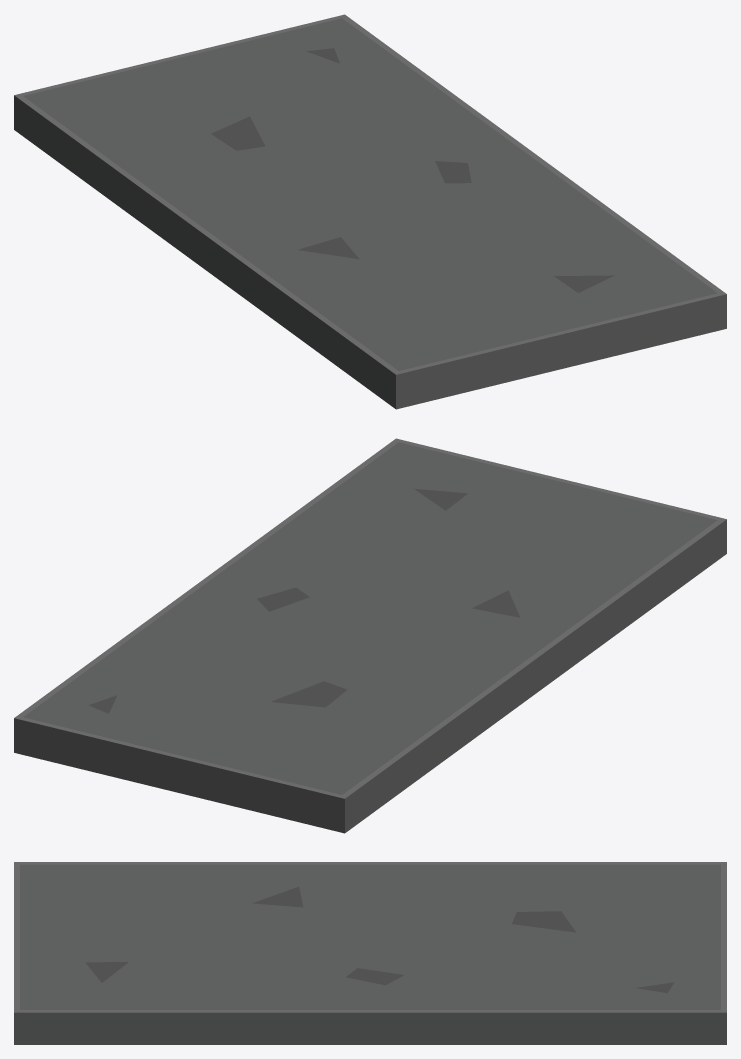
The model's file is ConcrateSlabs_B_3_3.obj.
The picture shows the model from 3 angles, top to bottom: view 1: azimuth 30°, elevation 25°; view 2: azimuth 150°, elevation 25°; view 3: azimuth 270°, elevation 25°; orthographic projection. The views are drawn at different scales.
Visible parts, largest first — view 1: ConcrateSlabs_B_3_3; view 2: ConcrateSlabs_B_3_3; view 3: ConcrateSlabs_B_3_3.
Part boxes in pixels (x1,y1,x2,y2): ConcrateSlabs_B_3_3: (14,14,726,409); ConcrateSlabs_B_3_3: (14,438,726,833); ConcrateSlabs_B_3_3: (14,862,726,1044).
Size of the model in its own units: 4 by 0.4 by 8.
